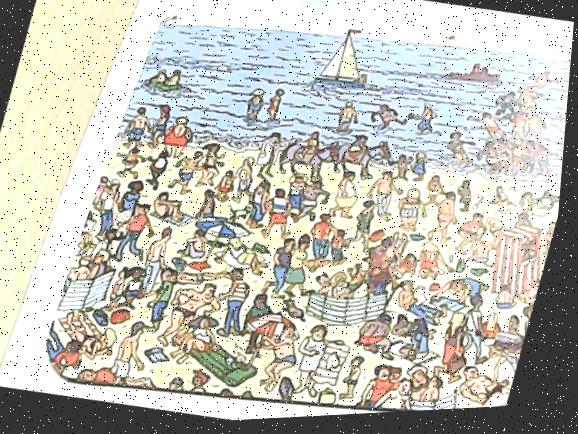waldo: (373, 249, 399, 274)
